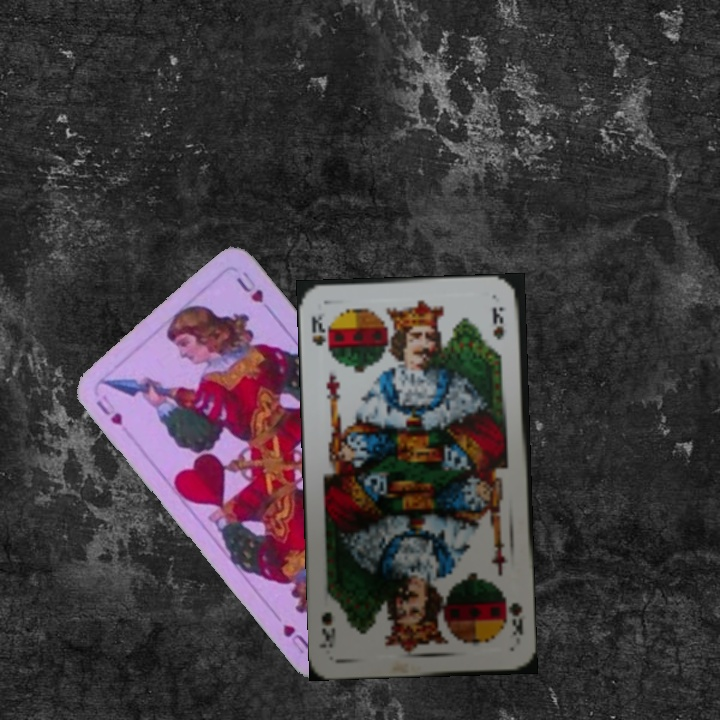HU: (92, 396, 126, 429)
SK: (505, 598, 526, 638), (307, 311, 328, 349)
